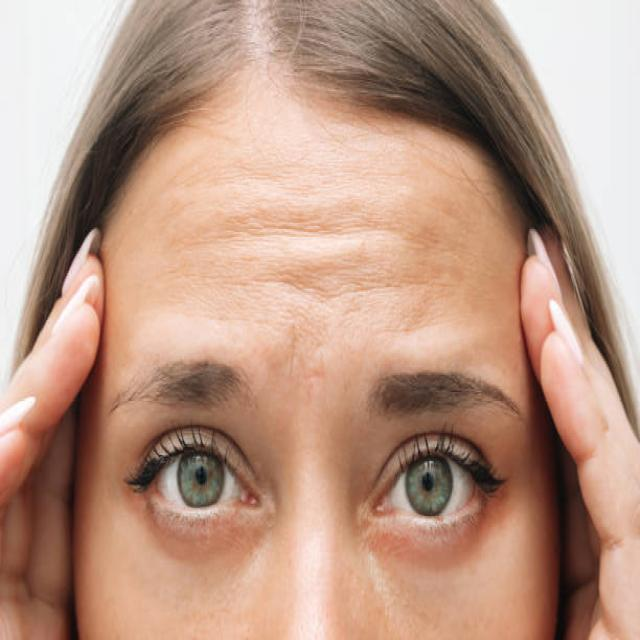Dry-Skin: (281, 134, 432, 317), (140, 477, 285, 640), (413, 234, 561, 366), (383, 524, 543, 640), (176, 166, 238, 284)
